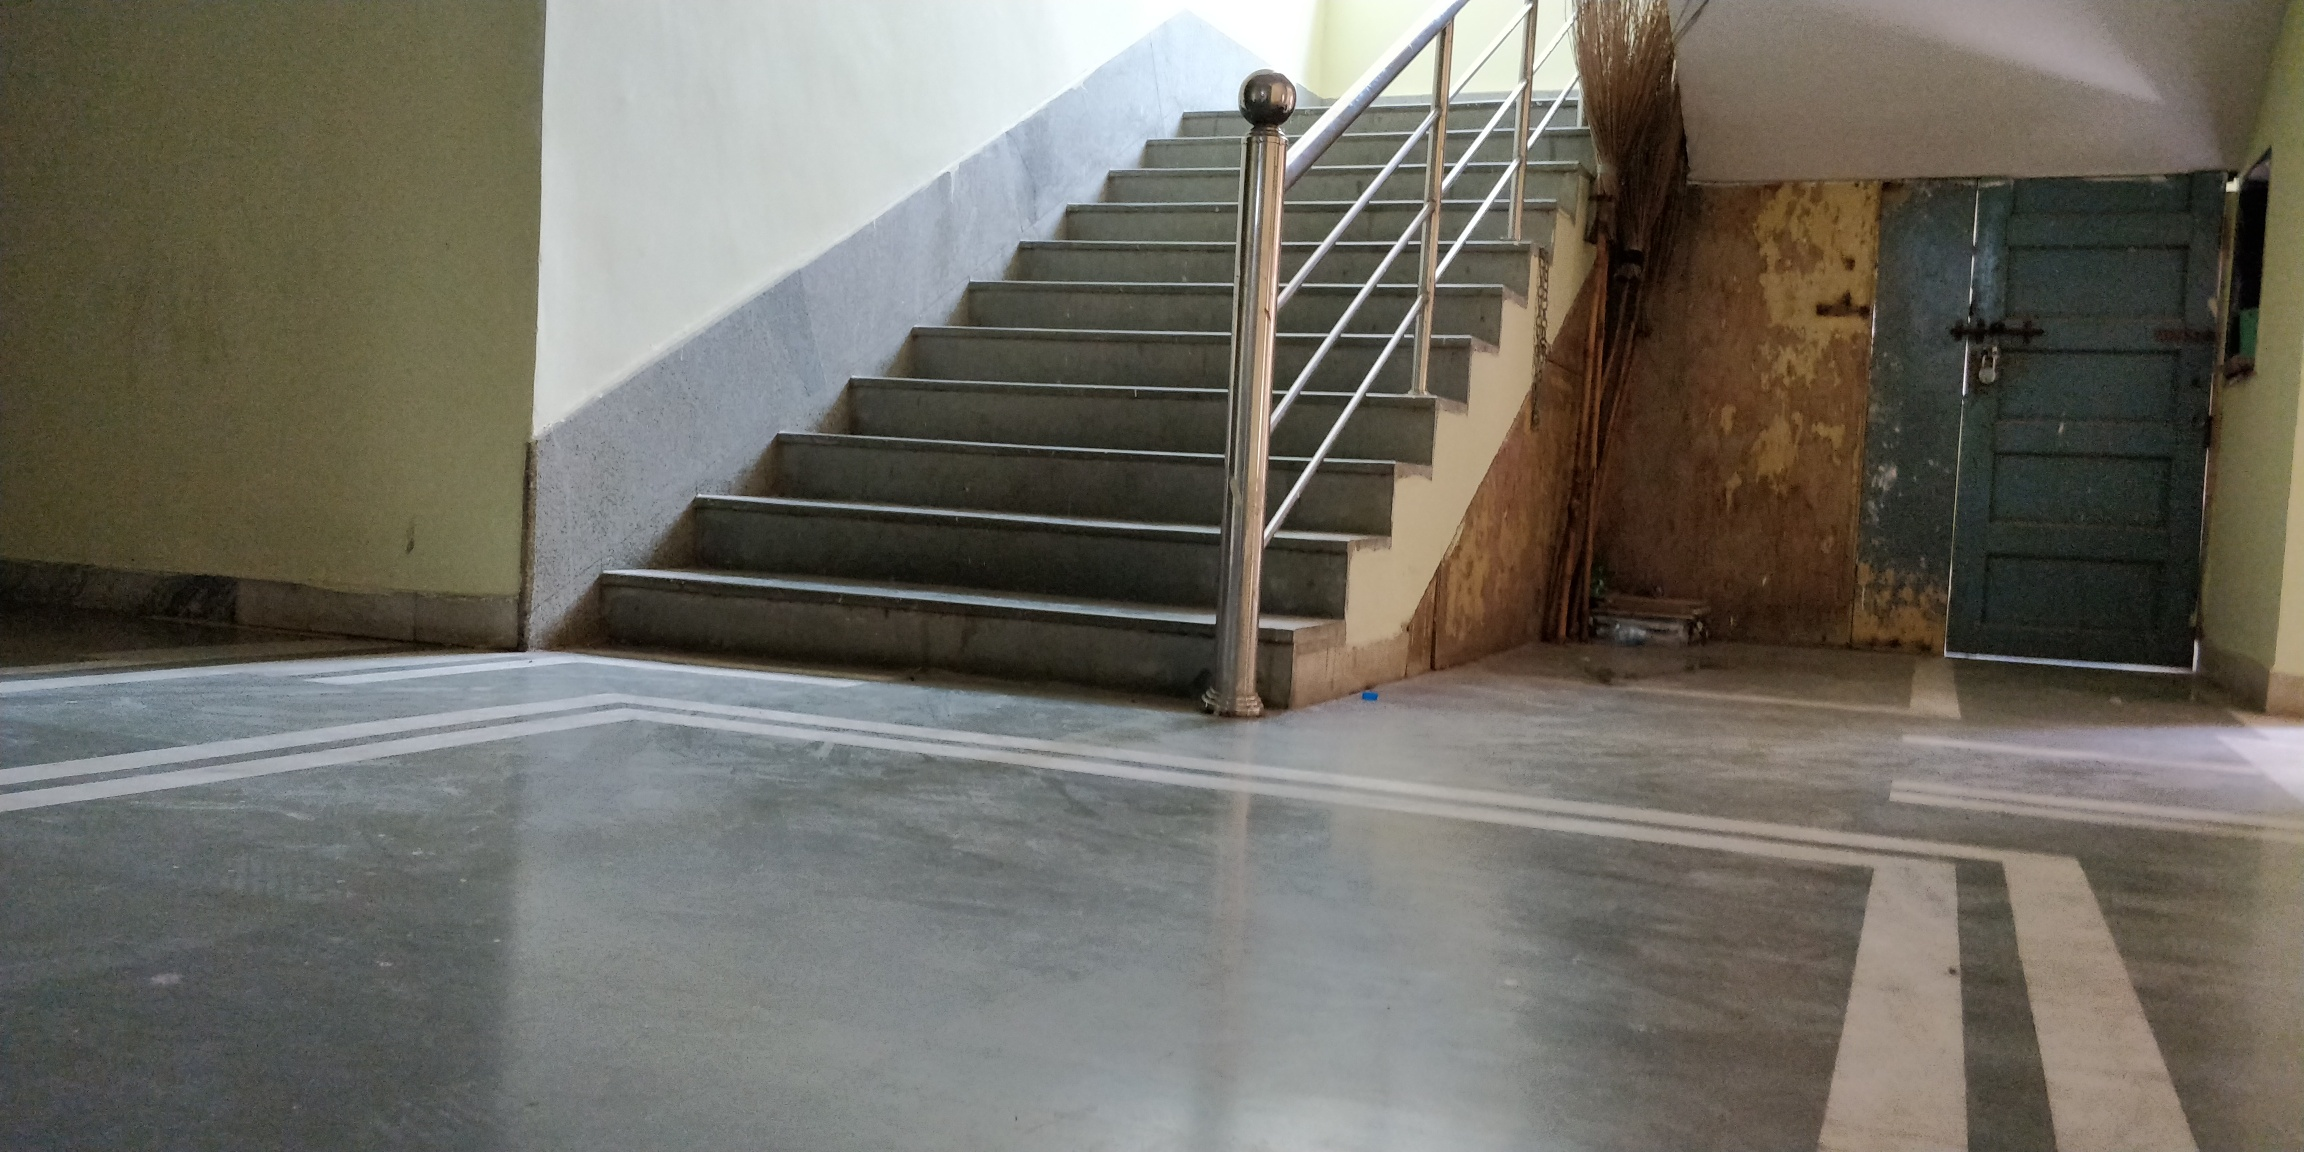stairs_up: (617, 101, 1563, 645)
